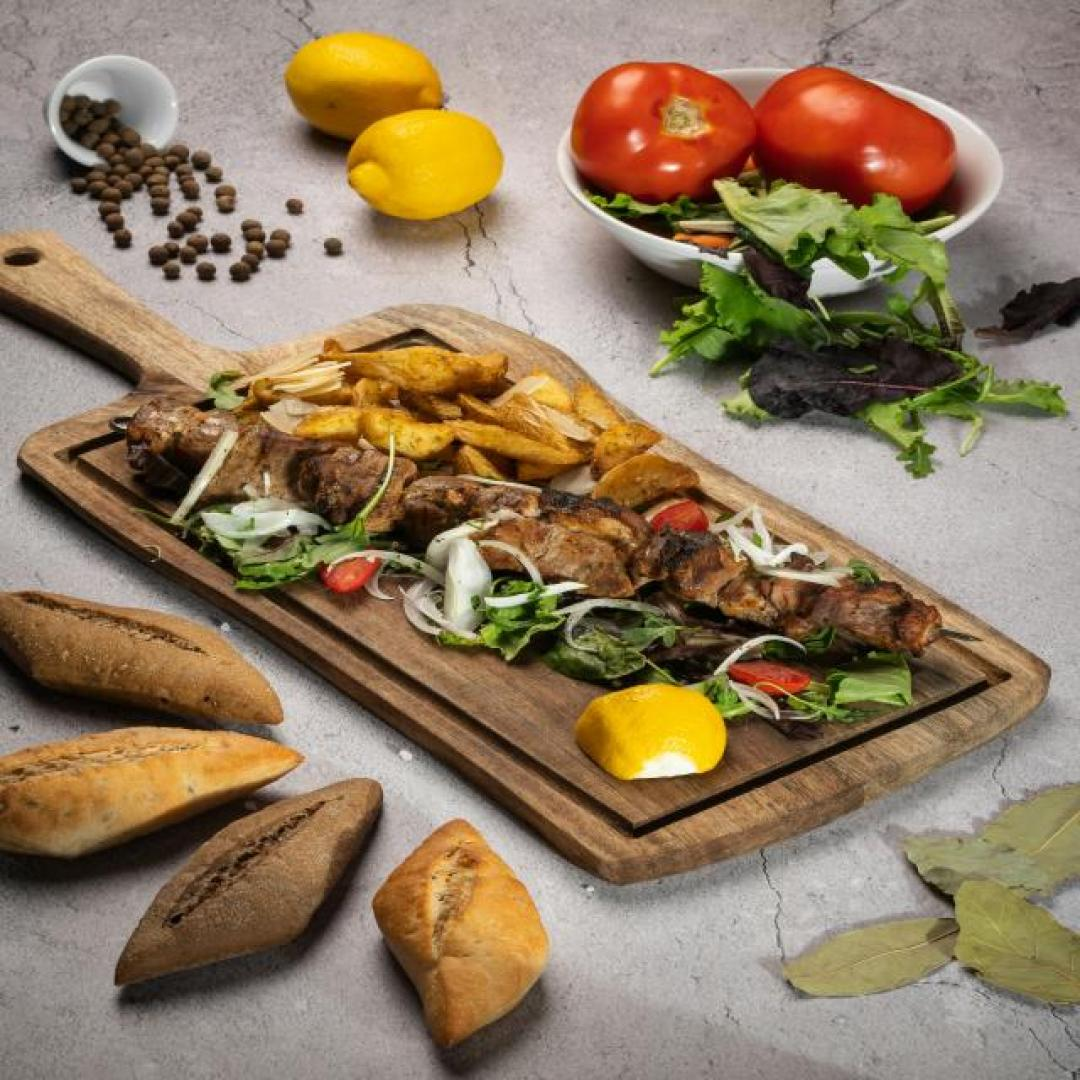matang: (749, 66, 955, 221), (569, 61, 754, 204)
